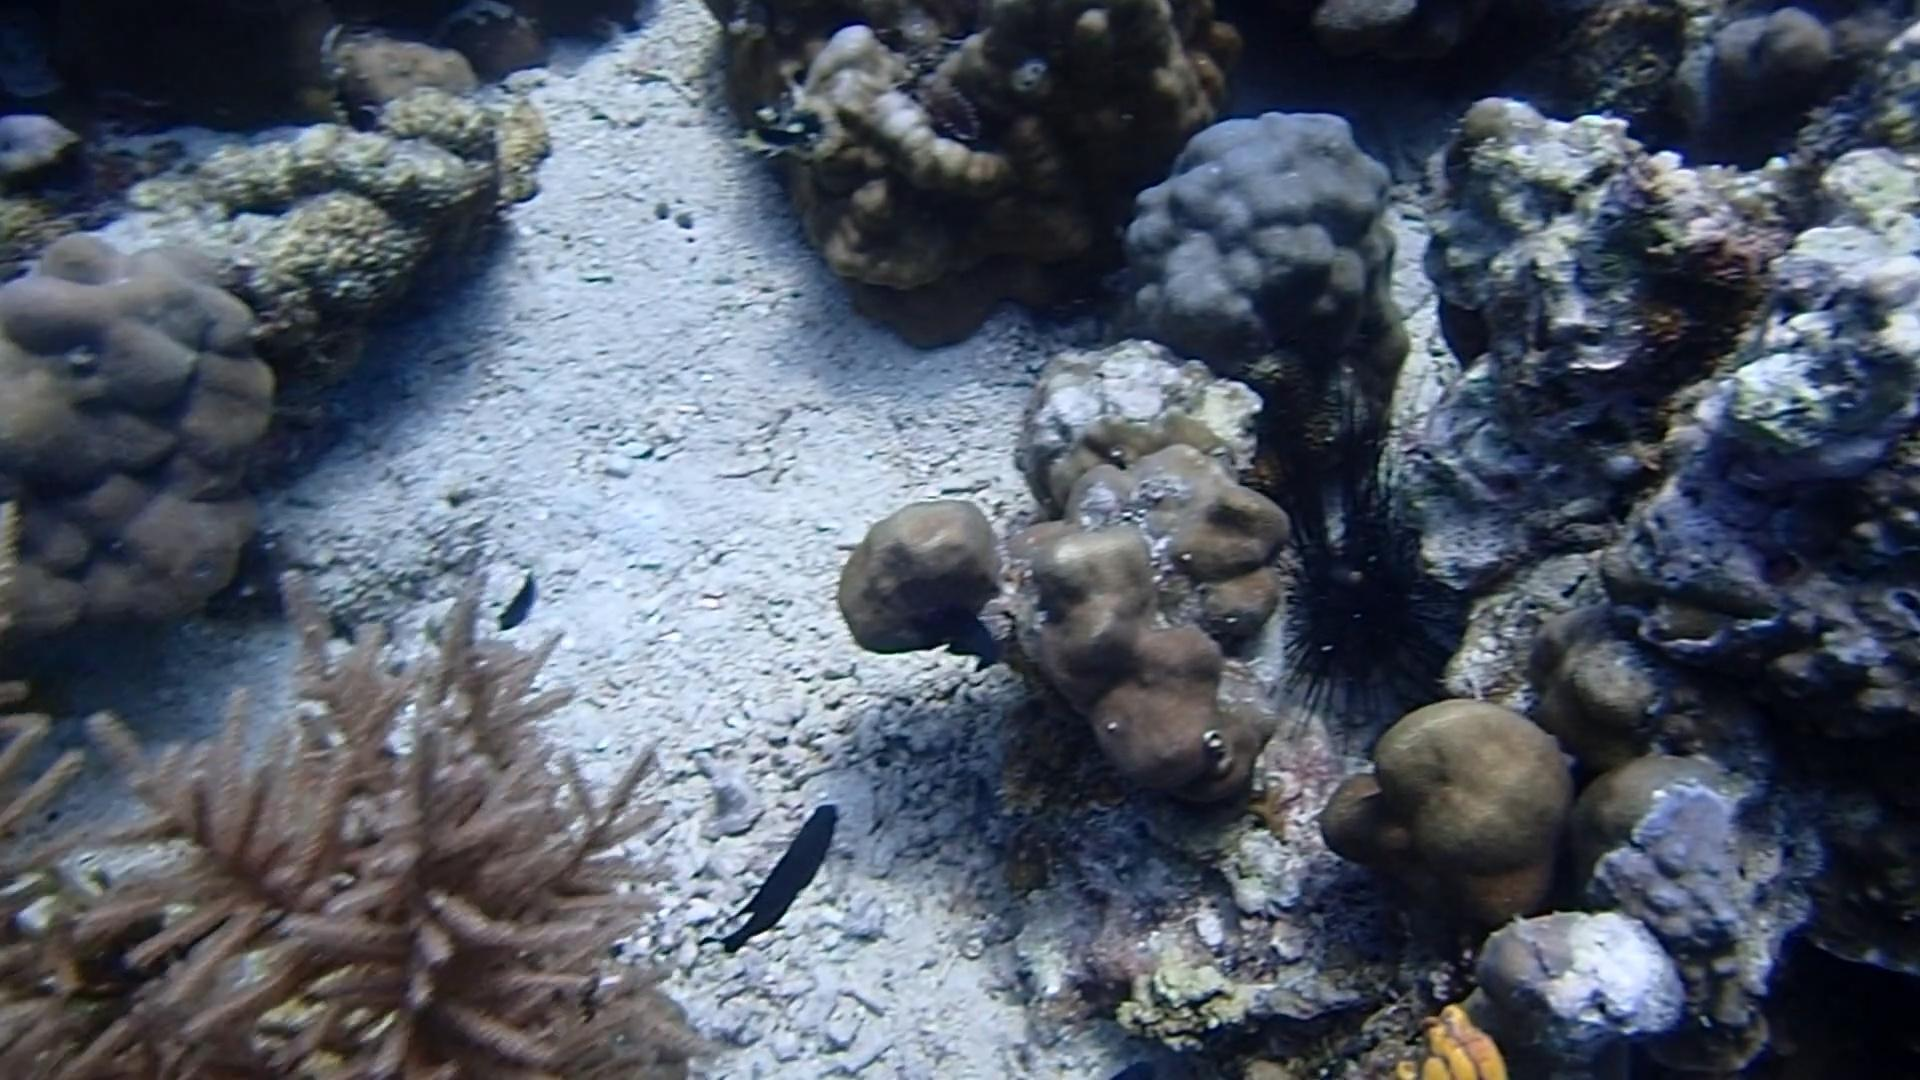Yellow Tail: (483, 556, 555, 634)
